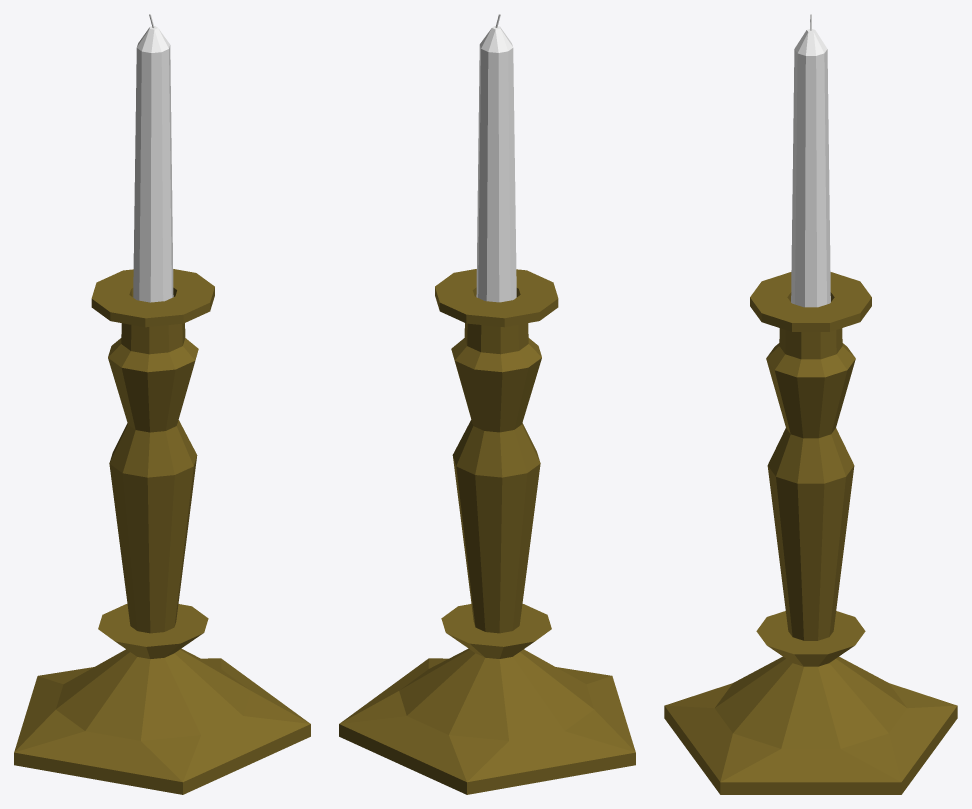
Rendered from candlestick02.gltf.
3 views of the same model, side by side, from view 1: azimuth 30°, elevation 25°; view 2: azimuth 150°, elevation 25°; view 3: azimuth 270°, elevation 25° (orthographic).
Visible parts, largest first — view 1: Cylinder; view 2: Cylinder; view 3: Cylinder.
Boxes of the visible parts, bbox=[...] form: Cylinder: bbox=[14, 14, 310, 794]; Cylinder: bbox=[339, 14, 635, 794]; Cylinder: bbox=[664, 14, 957, 794].
Bounding box in the file's own units: 0.1167 × 0.3178 × 0.1167.
Materials: 1 (1 with a texture image).
